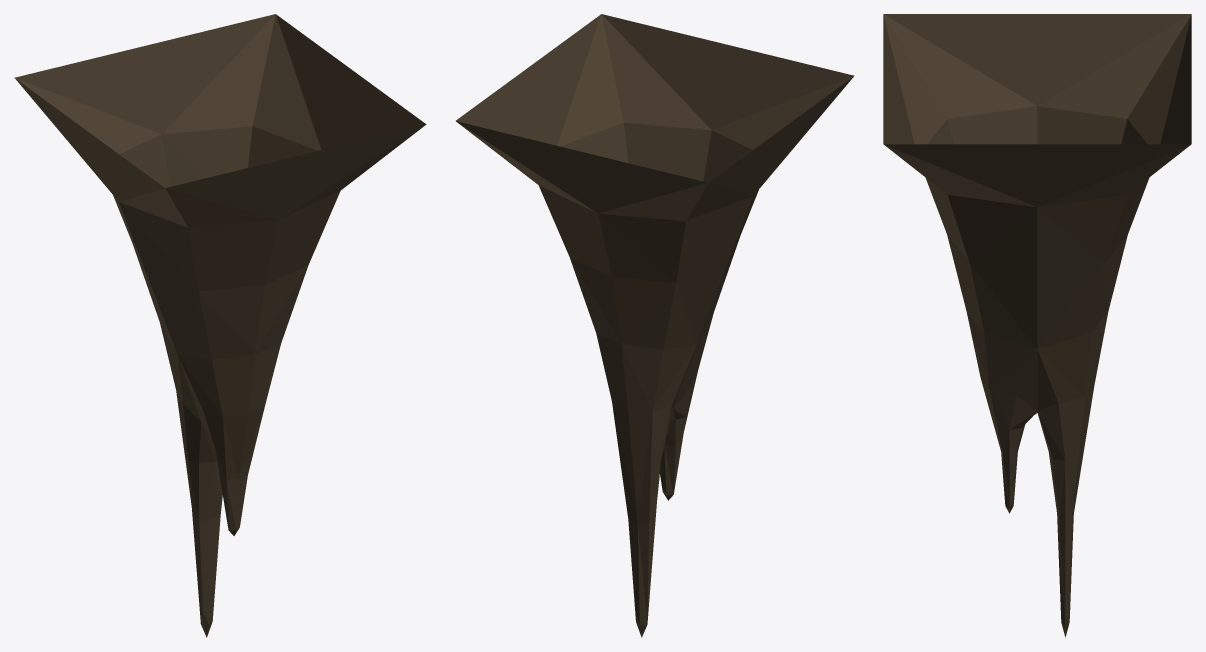
File: STALAG_V02.OBJ
3 views of the same model, side by side, from view 1: azimuth 30°, elevation 25°; view 2: azimuth 150°, elevation 25°; view 3: azimuth 270°, elevation 25° (orthographic). The views are drawn at different scales.
Visible parts, largest first — view 1: STALAG_V02; view 2: STALAG_V02; view 3: STALAG_V02.
Boxes of the visible parts, x1=… form: STALAG_V02: x1=14, y1=14, x2=426, y2=637; STALAG_V02: x1=456, y1=14, x2=854, y2=637; STALAG_V02: x1=883, y1=14, x2=1191, y2=637.
Size of the model in its own units: 3.05 by 6.11 by 3.05.
